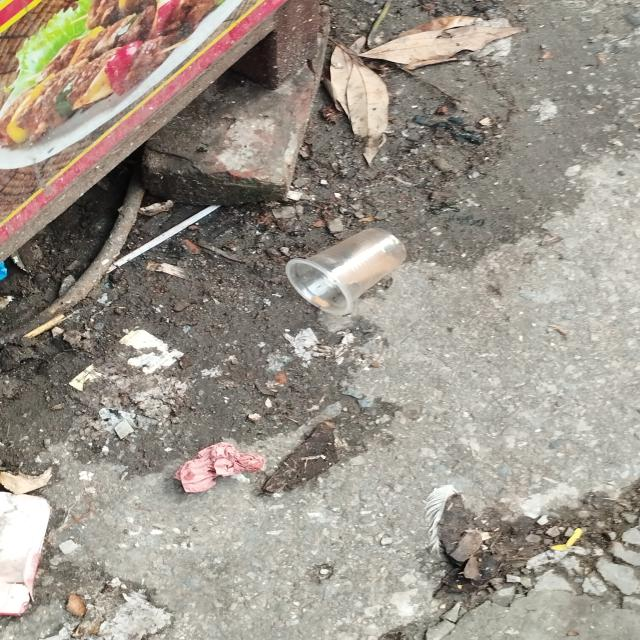plastic: (286, 228, 410, 314)
